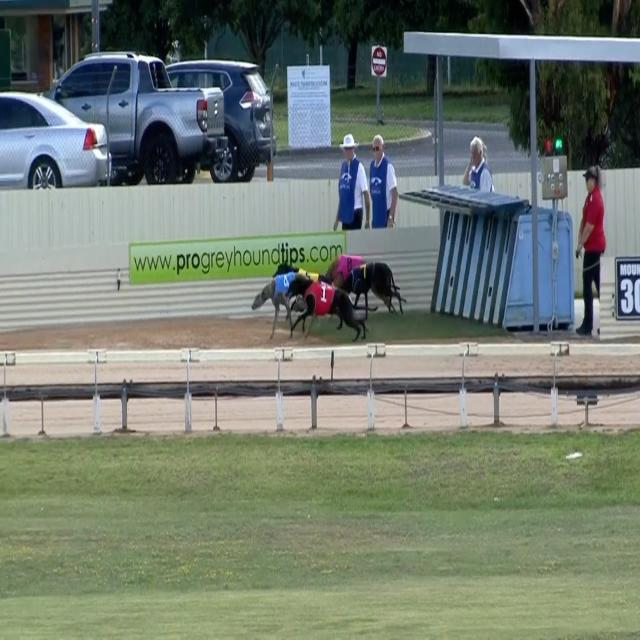dog_eight: (339, 254, 359, 276)
dog_five: (301, 268, 317, 286)
dog_four: (276, 274, 294, 295)
dog_one: (312, 284, 332, 306)
dog_seven: (355, 262, 372, 286)
rail: (0, 373, 640, 400)
